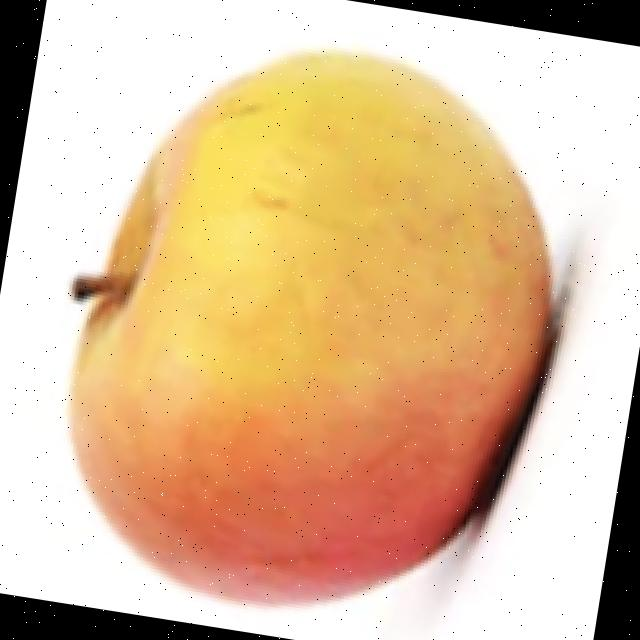apple: (58, 42, 606, 625)
